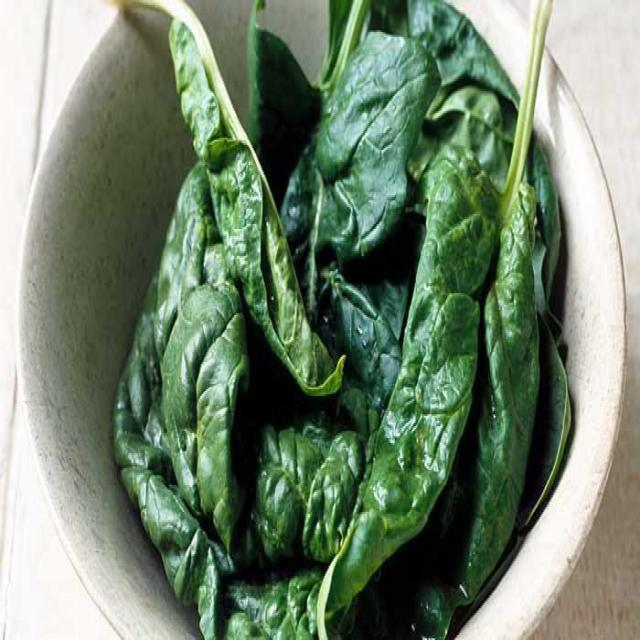Spinach: (113, 0, 593, 640)
